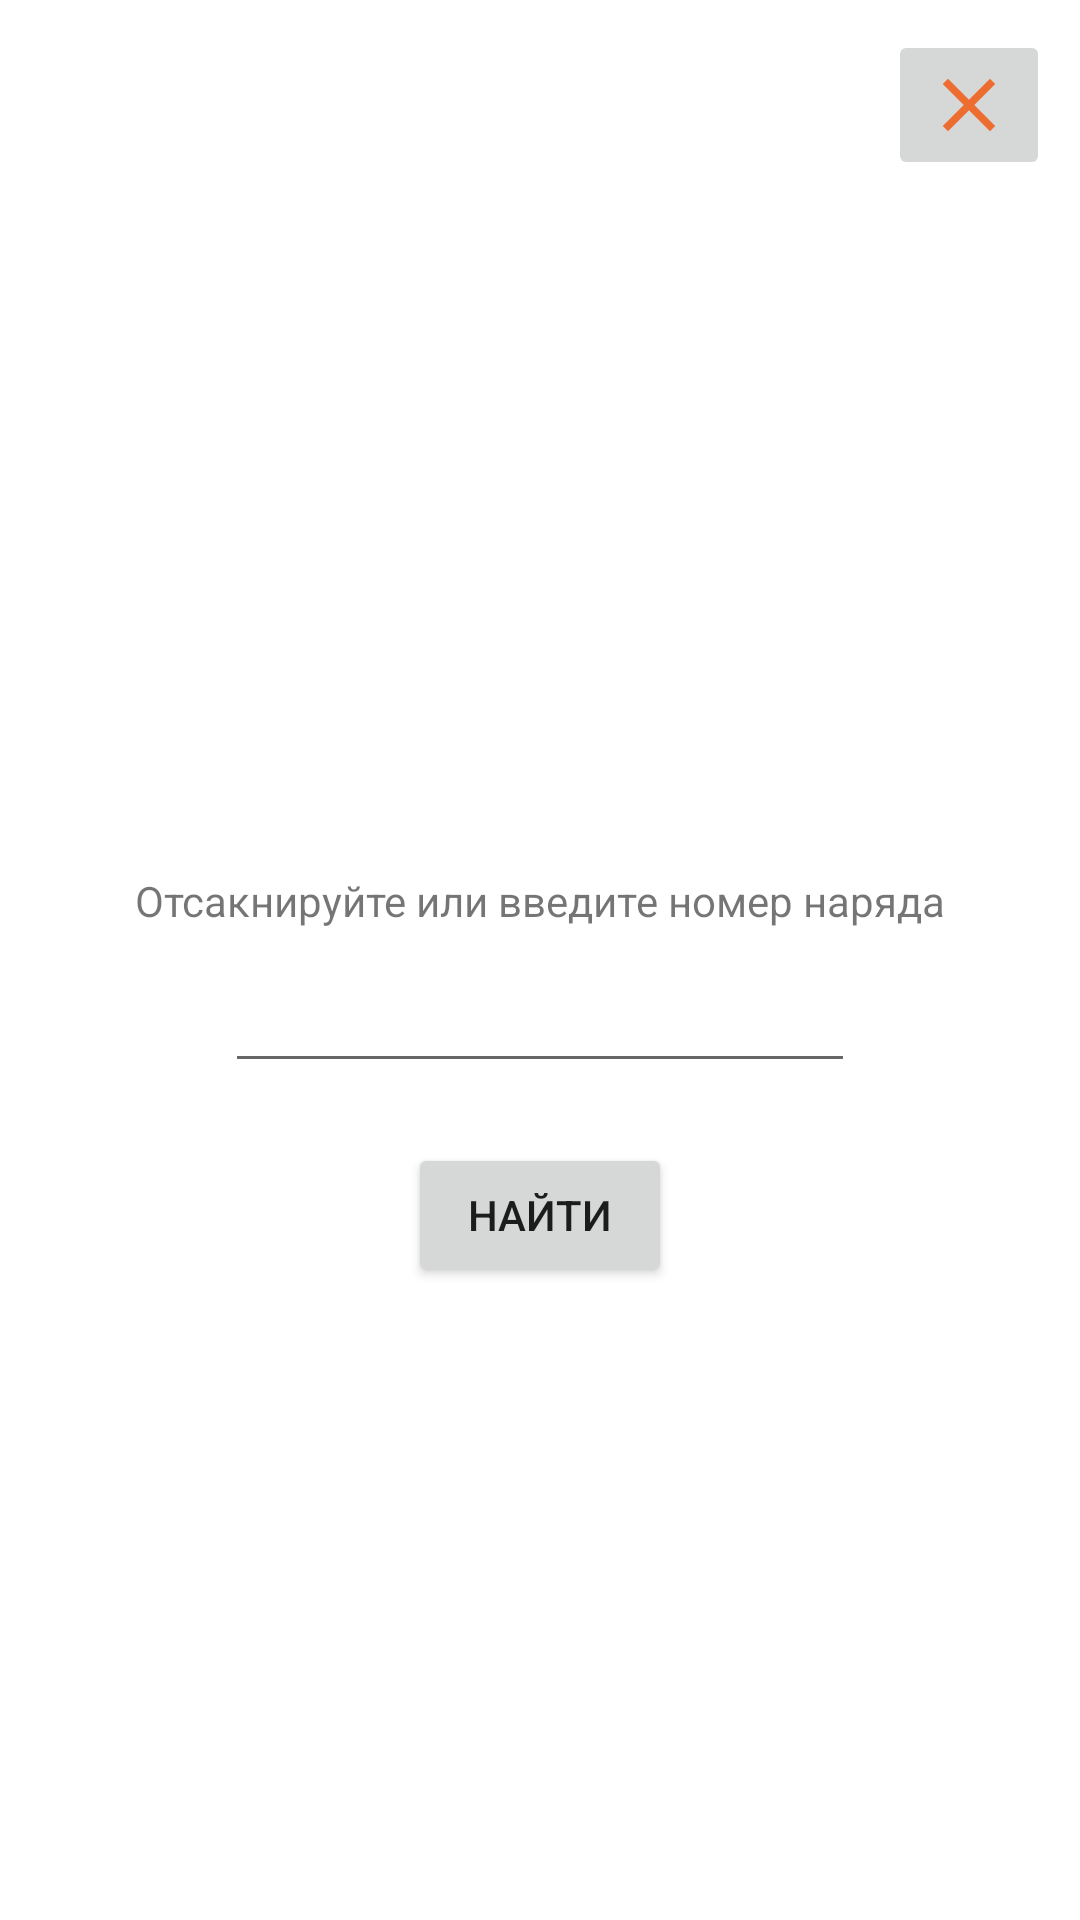

Where to tap for icons on this 1080 x 1920 app screen, as (x=x, y=y):
close: (x=969, y=105)
